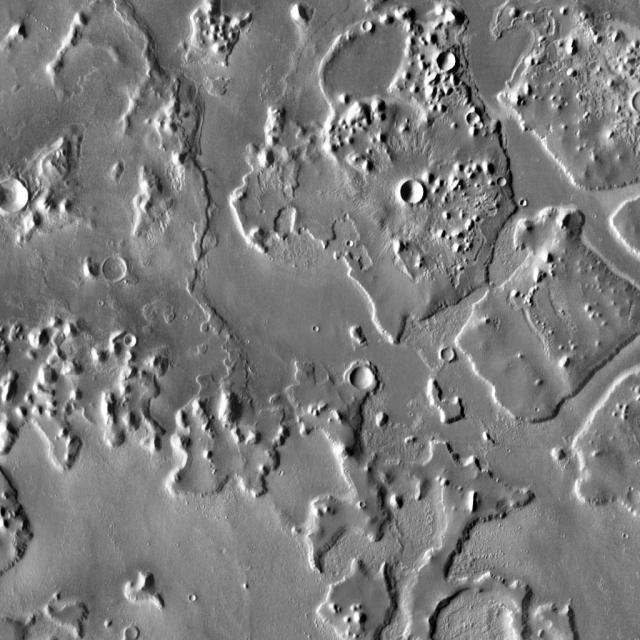crater: (430, 591, 528, 640), (0, 182, 31, 214), (402, 181, 426, 206), (105, 261, 129, 285), (353, 369, 376, 392), (436, 54, 456, 74), (438, 350, 454, 364), (468, 113, 482, 126), (630, 491, 640, 506), (124, 629, 138, 639), (124, 335, 134, 346), (499, 177, 509, 187), (364, 23, 373, 33), (476, 122, 484, 130), (515, 193, 523, 200), (188, 596, 195, 604), (342, 235, 348, 242)
